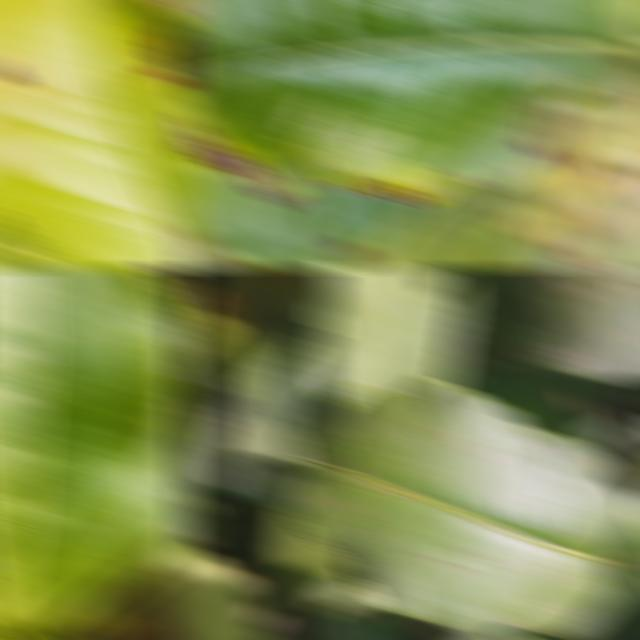Leaf: (176, 0, 637, 205), (277, 382, 640, 640), (0, 266, 184, 628), (0, 0, 194, 270), (180, 158, 433, 267), (201, 331, 336, 509), (315, 266, 472, 406), (492, 266, 640, 382), (370, 174, 524, 270), (176, 546, 278, 640), (273, 510, 347, 627), (191, 301, 268, 398), (176, 463, 211, 532)
